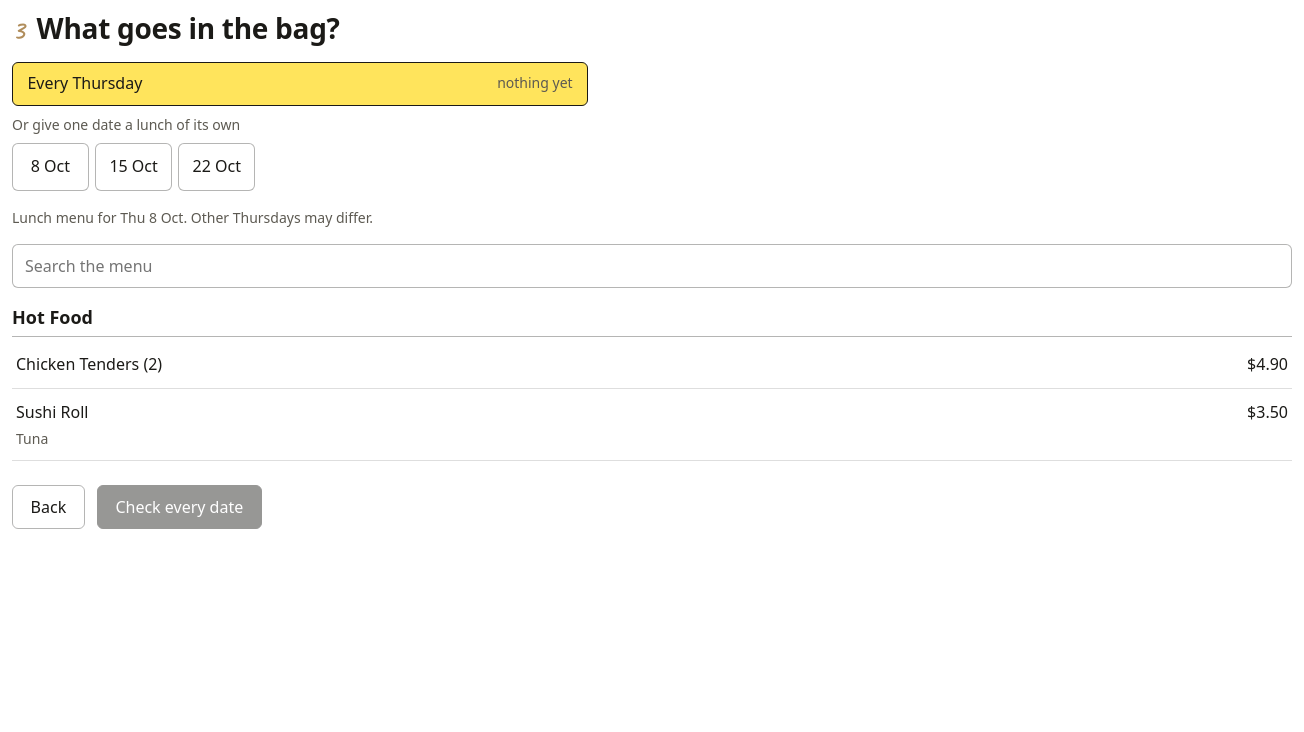
Test: WhatStep › searches the menu by item and by category
The width and height of the screenshot is (1304, 732).
Type "sushi" into the search field labelled "Search the menu".
click(652, 266); type("sushi")  # box [12,244,1292,288]
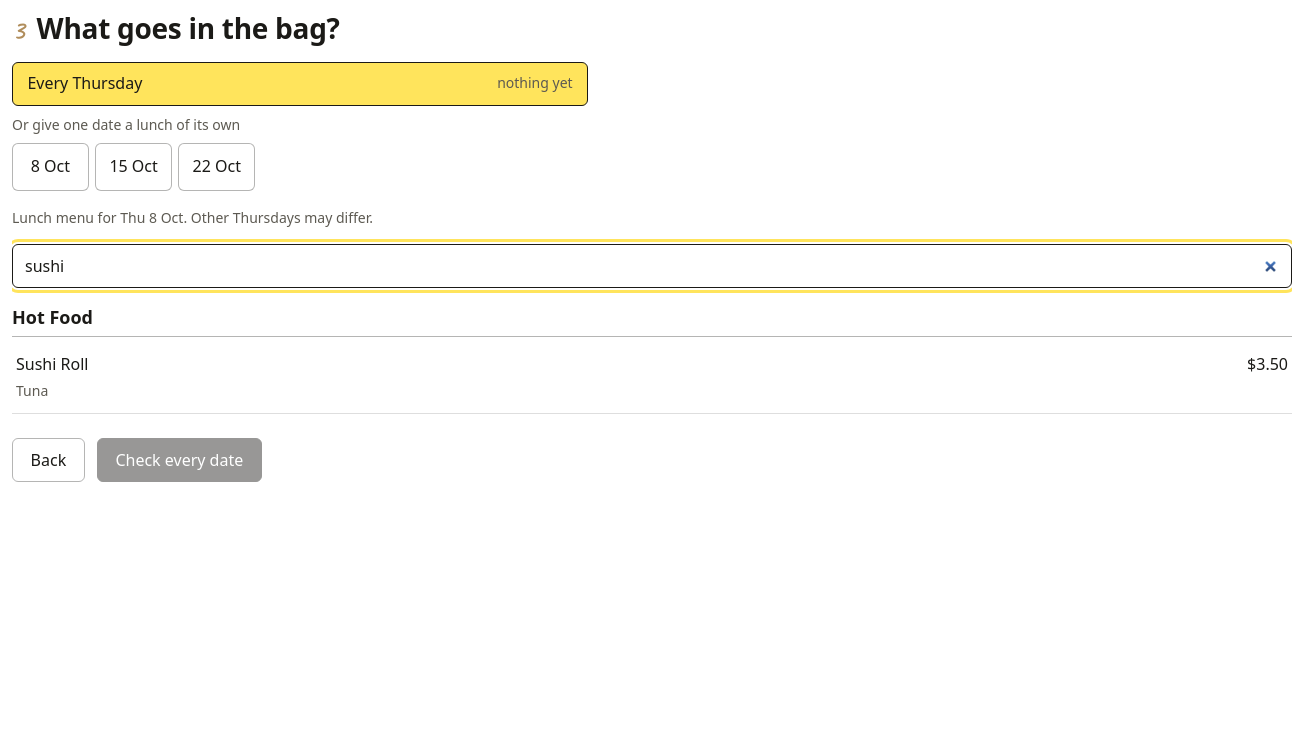
Expected: the button "Sushi Roll $3.50 Tuna" is shown, [12,341,1292,414]
Expected: the button "Chicken Tenders" is gone
Replace the text in the search field named "Search the menu" with "hot food" at [652, 266], box [12,244,1292,288]
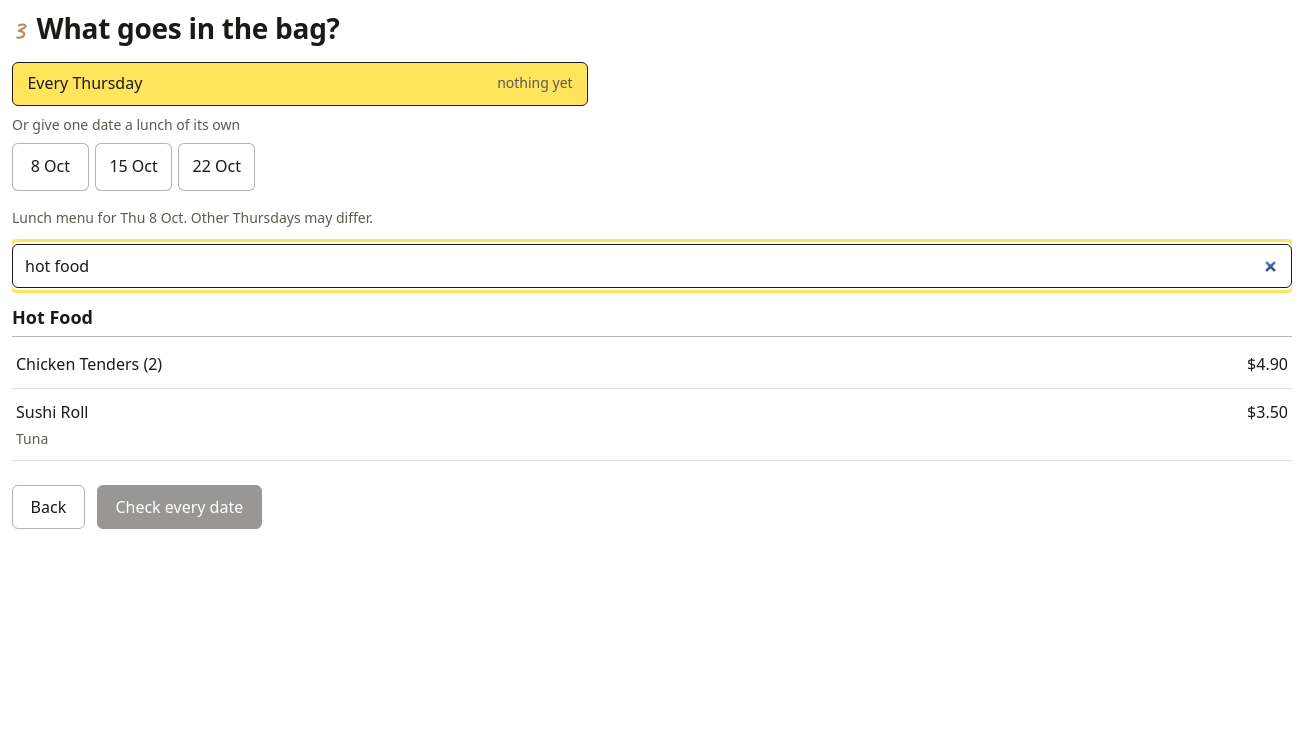
Expected: the button "Chicken Tenders (2) $4.90" is shown, [12,341,1292,389]
Replace the text in the search field named "Search the menu" with "pavlova" at [652, 266], box [12,244,1292,288]
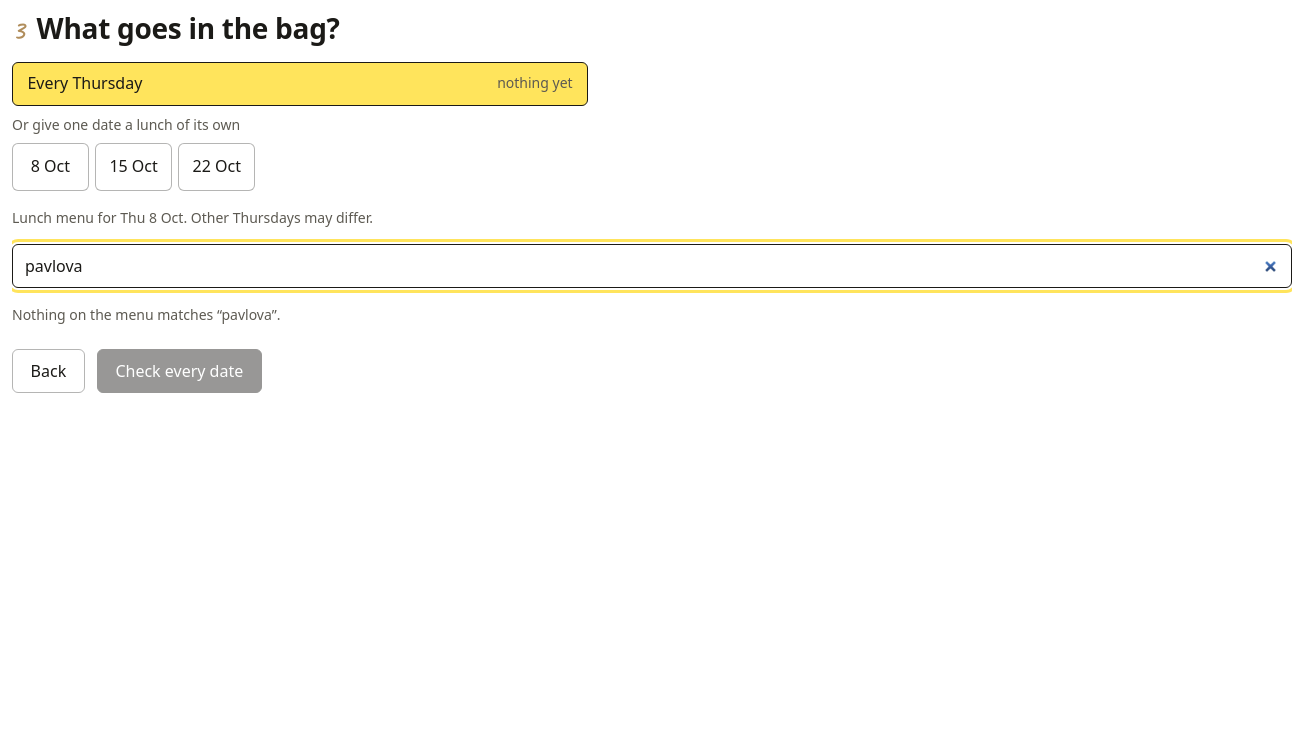
Expected: the text "Nothing on the menu matches “pavlova”." is shown, [12,305,280,324]
